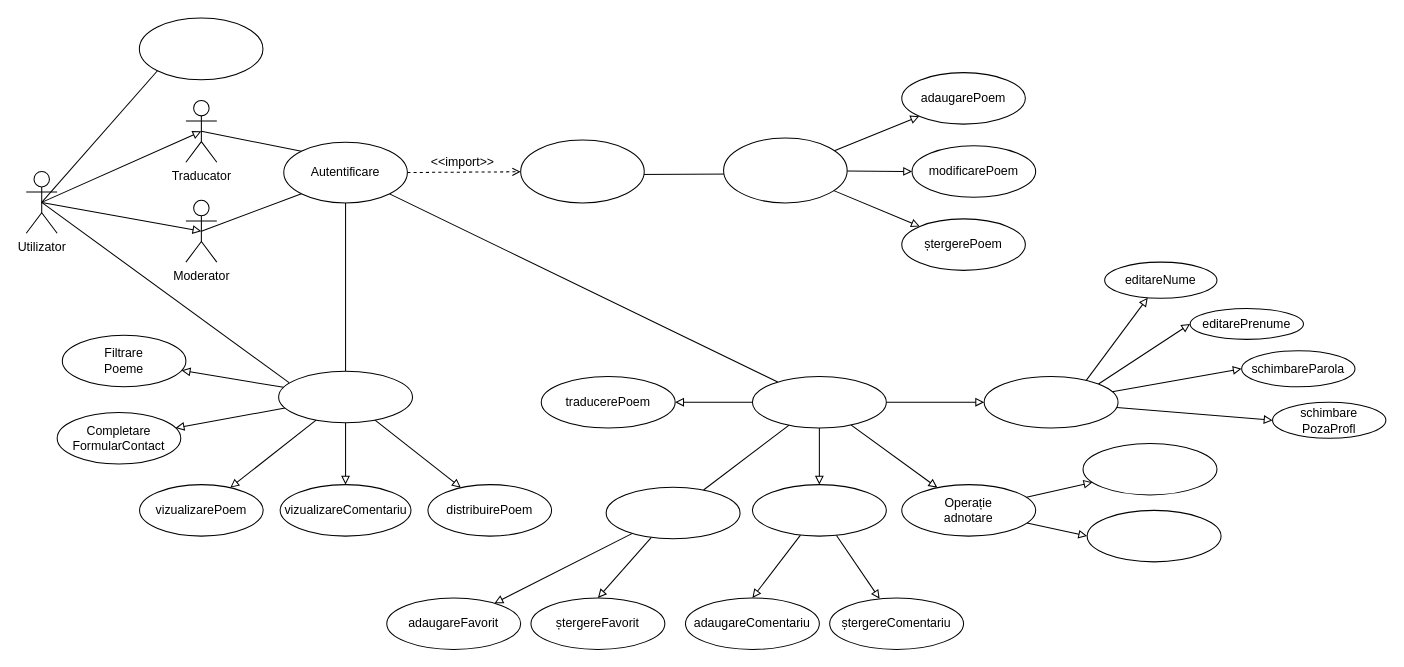
This 1404x667 diagram has some shape labels left out. Here are the shapes that lost their labels. From the top down, the box of each, then its label:
(138, 17, 263, 80): Înregistrare
(520, 139, 644, 203): Autentificare Moderator
(723, 137, 847, 203): Operațiune de administrare
(278, 370, 413, 423): Operație utilizator neautentificat
(751, 375, 886, 428): Operație utilizator autentificat
(983, 375, 1118, 428): Operație profil
(1082, 442, 1217, 495): adaugareAdnotare
(605, 486, 740, 539): Operație PoemFavorit
(751, 484, 886, 536): Operație comentariu
(1086, 509, 1221, 562): ștergereAdnotare
